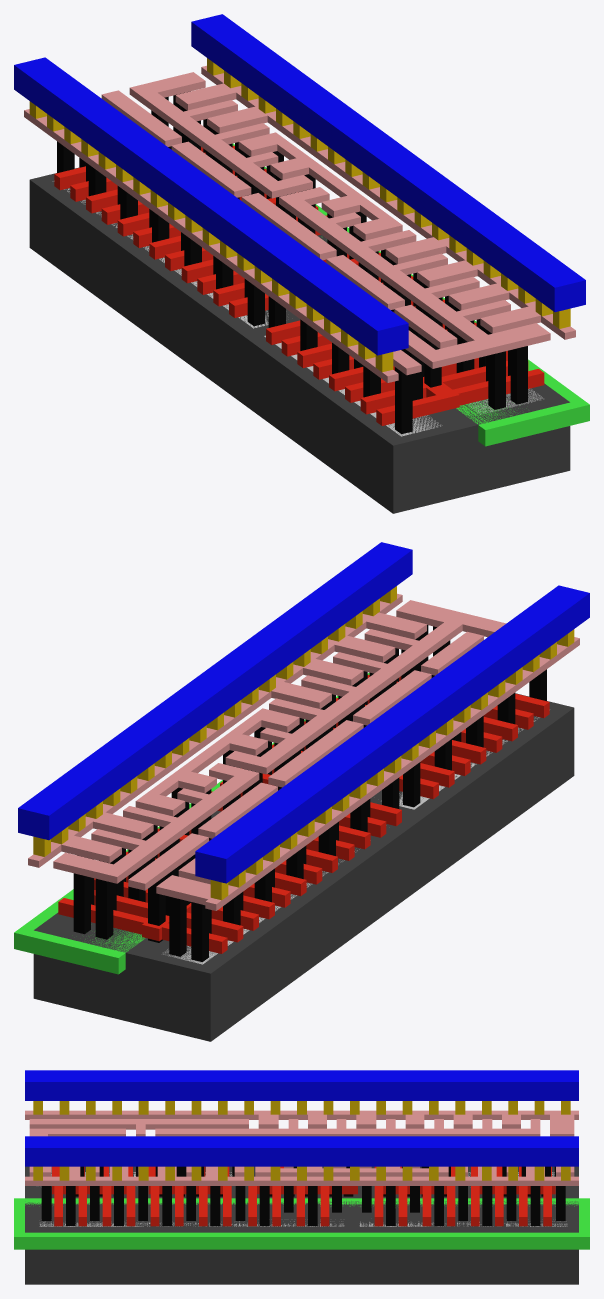
File: sky130_fd_sc_hd__o311ai_4.obj
3 renders of one model, top to bottom at view 1: azimuth 30°, elevation 25°; view 2: azimuth 150°, elevation 25°; view 3: azimuth 270°, elevation 25°, orthographic. The views are drawn at different scales.
Parts seen in each view (by area): view 1: subs, metal1, li, poly, licon, mcon, nwell, diff; view 2: subs, metal1, li, licon, poly, mcon, nwell, diff; view 3: metal1, subs, li, nwell, poly, licon, mcon, tap.
Part boxes in pixels (x1,y1,x2,y2): subs: [29, 167, 570, 513]; metal1: [14, 14, 585, 355]; li: [24, 65, 575, 382]; poly: [54, 145, 544, 425]; licon: [57, 91, 527, 434]; mcon: [29, 58, 570, 372]; nwell: [232, 143, 589, 446]; diff: [52, 181, 442, 436]; subs: [33, 693, 574, 1041]; metal1: [18, 542, 589, 883]; li: [28, 593, 579, 910]; licon: [73, 625, 546, 962]; poly: [58, 675, 549, 953]; mcon: [33, 586, 574, 900]; nwell: [14, 672, 369, 974]; diff: [163, 716, 539, 964]; metal1: [25, 1070, 578, 1166]; subs: [25, 1166, 578, 1284]; li: [25, 1110, 578, 1185]; nwell: [14, 1198, 589, 1249]; poly: [52, 1166, 555, 1226]; licon: [41, 1166, 565, 1225]; mcon: [33, 1101, 570, 1180]; tap: [39, 1221, 567, 1226].
Size of the model in its own units: 3.2 by 2.74 by 10.04.
